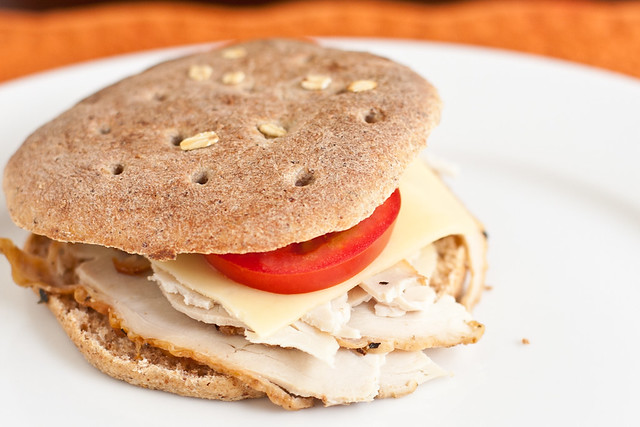sandwich: (2, 7, 535, 427)
